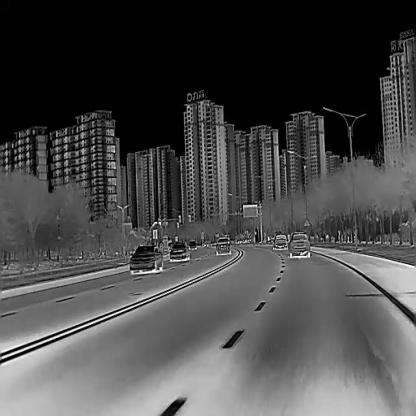car: (128, 244, 163, 273), (286, 232, 311, 256), (168, 242, 191, 262), (216, 236, 232, 254), (272, 234, 288, 249), (188, 239, 196, 249)
